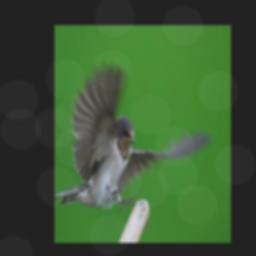Swallow: (57, 60, 210, 211)
